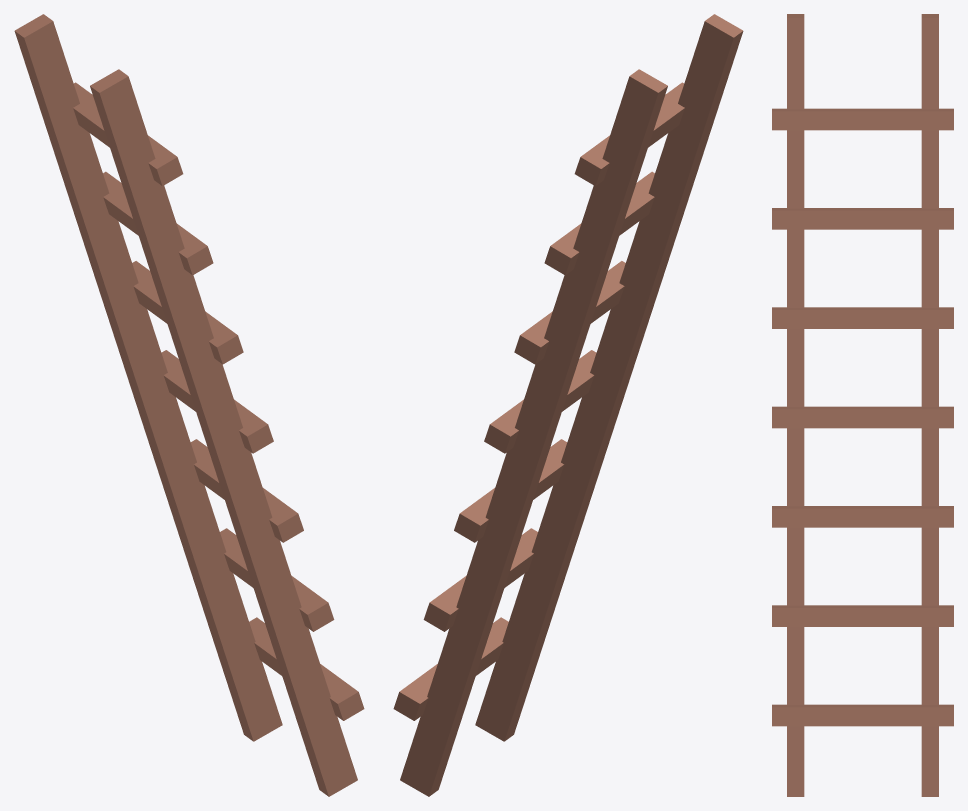
Rendered from Ladder.fbx.
The picture shows the model from 3 angles, left to right: view 1: azimuth 30°, elevation 25°; view 2: azimuth 150°, elevation 25°; view 3: azimuth 270°, elevation 25°; orthographic projection. The views are drawn at different scales.
Parts seen in each view (by area): view 1: Plane.005; view 2: Plane.005; view 3: Plane.005.
Boxes of the visible parts, x1,y1,x2,y2 form: Plane.005: (14,14,364,796); Plane.005: (393,14,743,796); Plane.005: (772,14,953,796).
Bounding box in the file's own units: 47.52 × 135 × 32.41.
